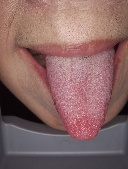tongue: (44, 59, 114, 142)
